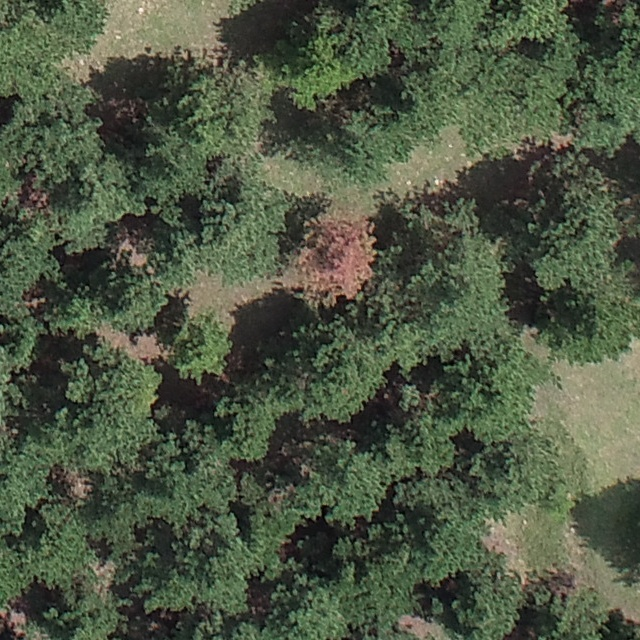unhealthy: (294, 213, 377, 306)
